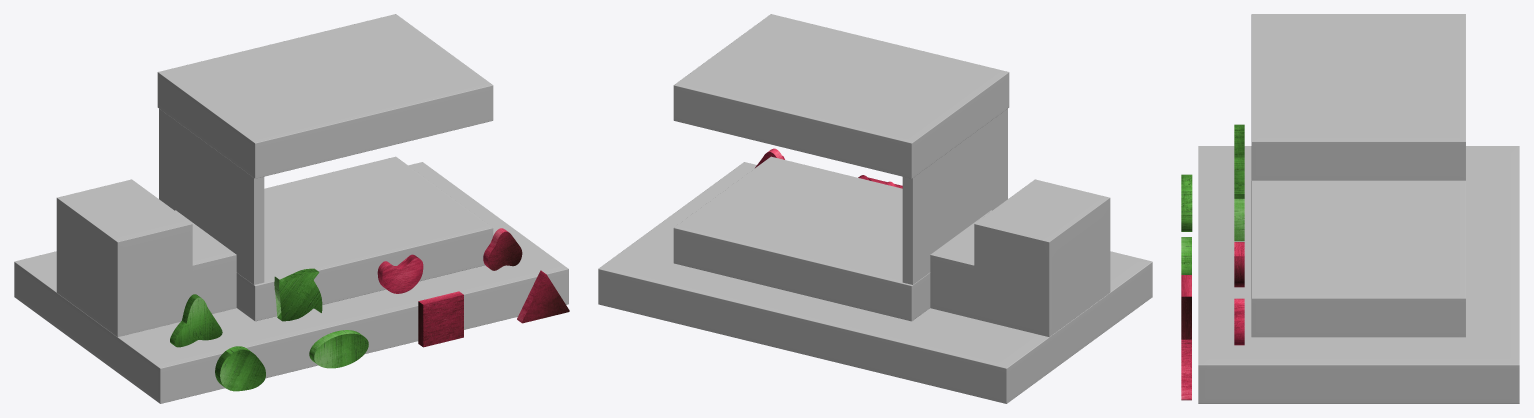
The model's file is Body.fbx.
3 renders of one model, left to right at view 1: azimuth 30°, elevation 25°; view 2: azimuth 150°, elevation 25°; view 3: azimuth 270°, elevation 25°, orthographic. The views are drawn at different scales.
Parts seen in each view (by area): view 1: pCube9; view 2: pCube9; view 3: pCube9.
Boxes of the visible parts, left/top/right/bottom form: pCube9: left=14, top=14, right=569, bottom=403; pCube9: left=598, top=14, right=1152, bottom=403; pCube9: left=1181, top=14, right=1519, bottom=403.
Size of the model in its own units: 12 by 6.01 by 7.83.
